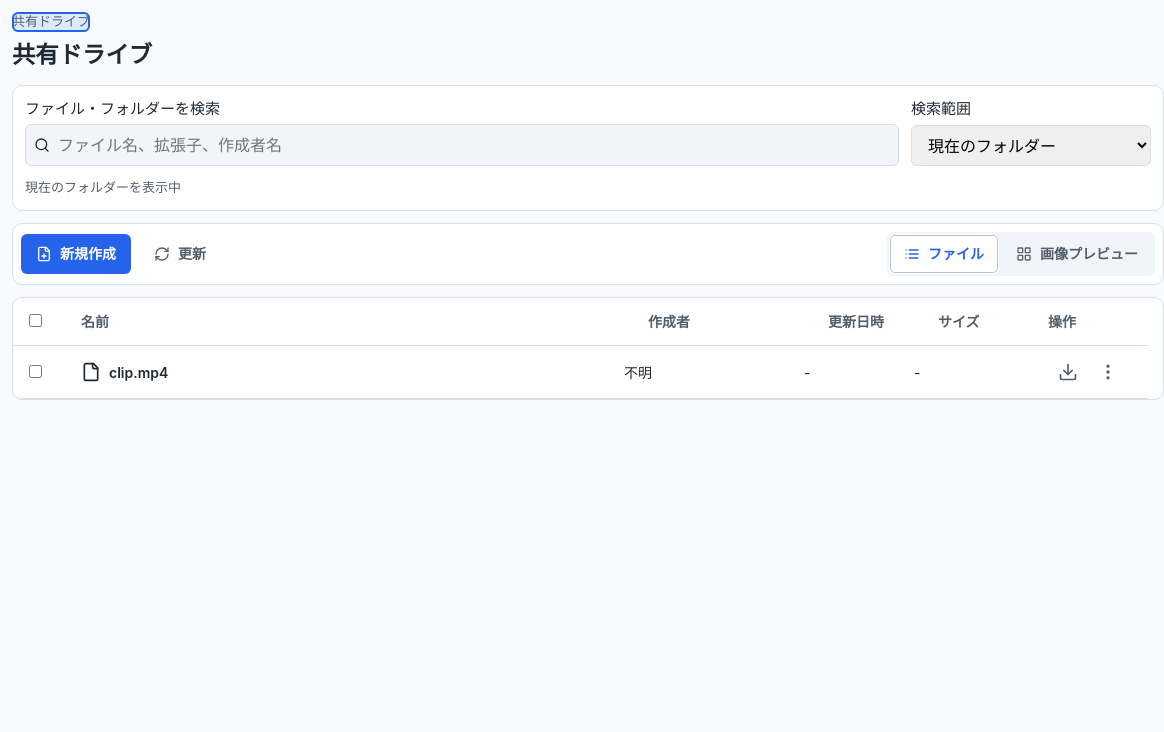
it: DrivePage drag and drop upload › does not open preview from checkbox, download, or action menu controls
Expected: the text "clip.mp4" is shown, 109,362 -> 168,383
Click the checkbox named "clipを選択".
click(36, 371)  # box 29,365 -> 42,378
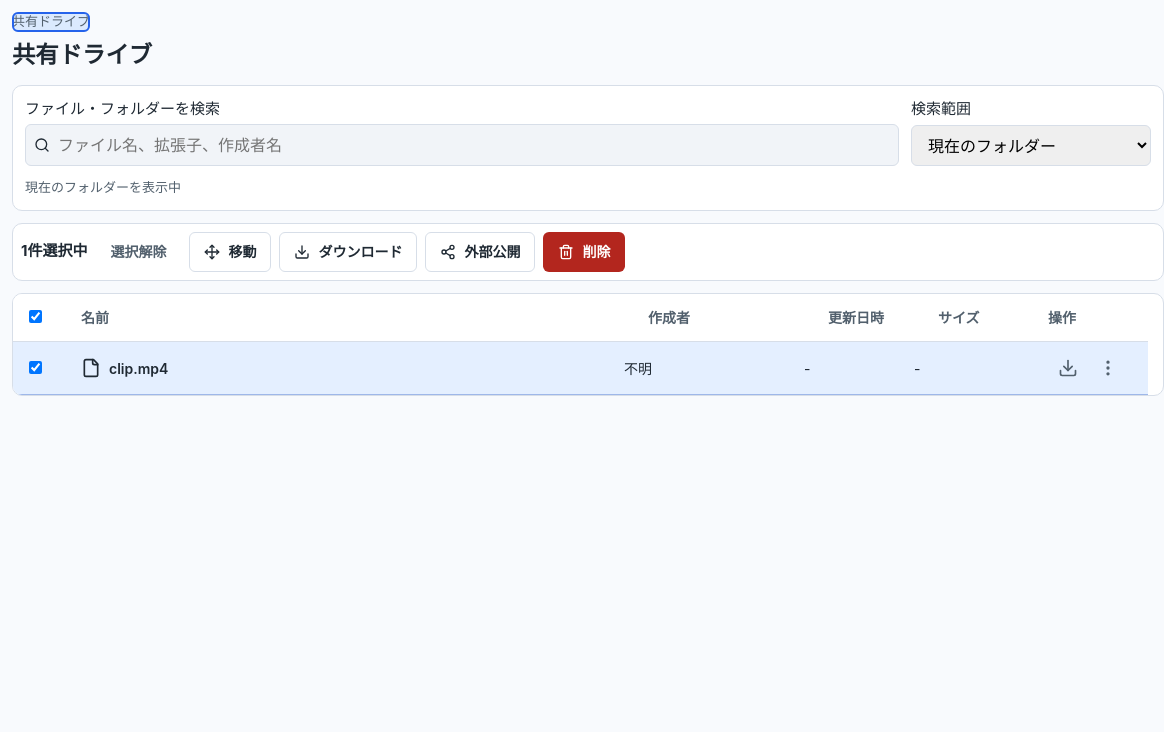
Click the button named "clipをダウンロード".
click(1068, 368)  # box 1048,348 -> 1088,388
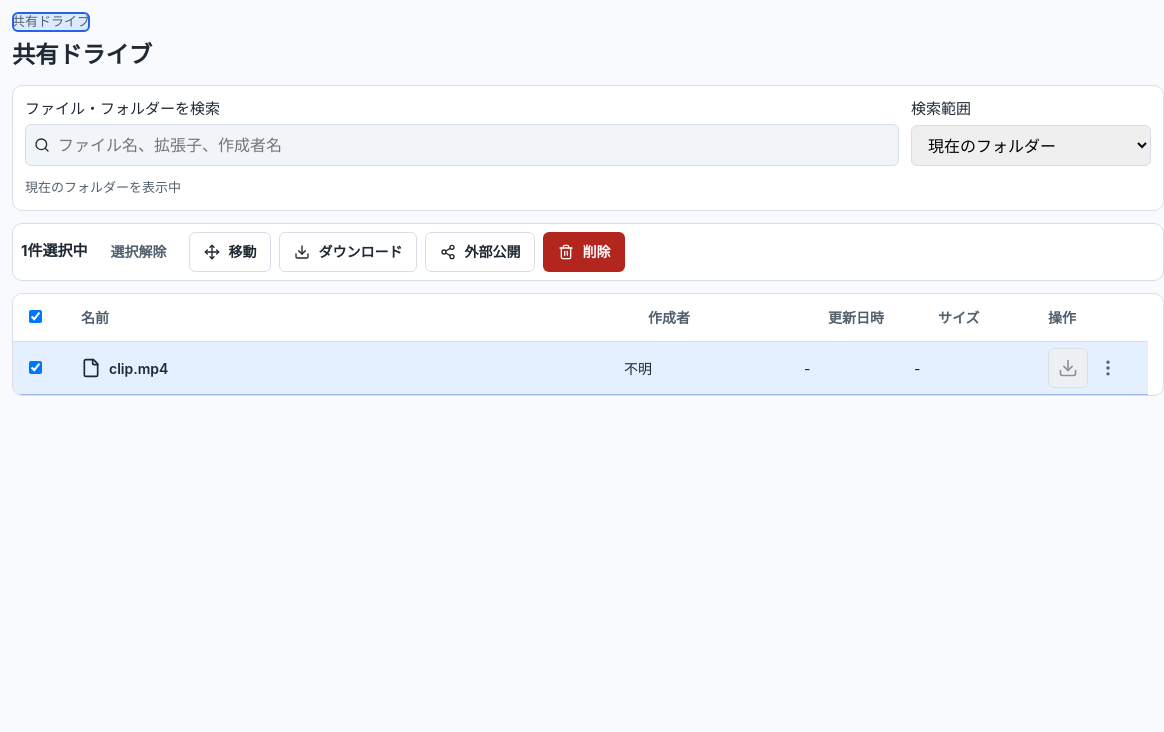
Click the button named "clipの操作メニュー".
click(1108, 368)  # box 1088,348 -> 1128,388
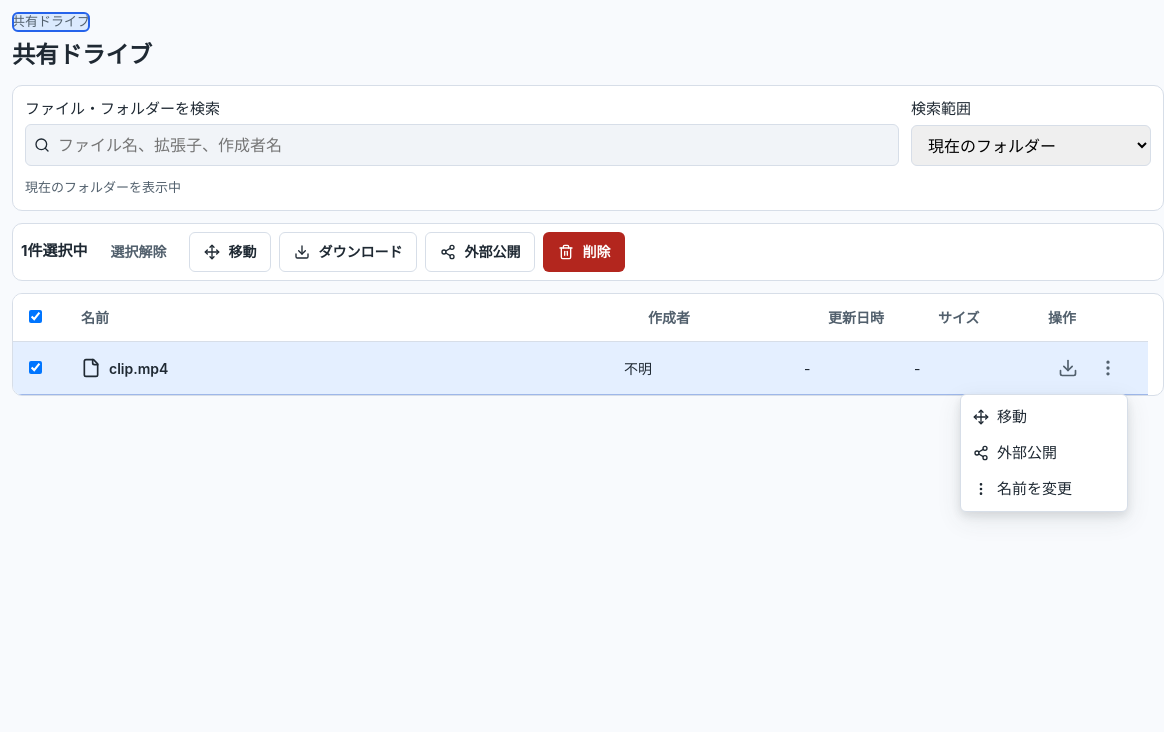
Result: the menu is shown at 960,394 -> 1128,512
